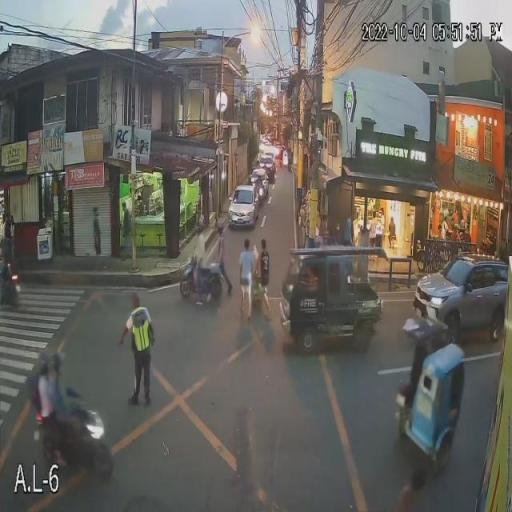helmet: (47, 352, 76, 377), (38, 346, 53, 381), (190, 219, 206, 238)
motorcycle: (18, 372, 140, 488), (174, 250, 231, 309)
rider: (48, 369, 94, 446), (34, 369, 66, 470), (189, 234, 206, 289)
